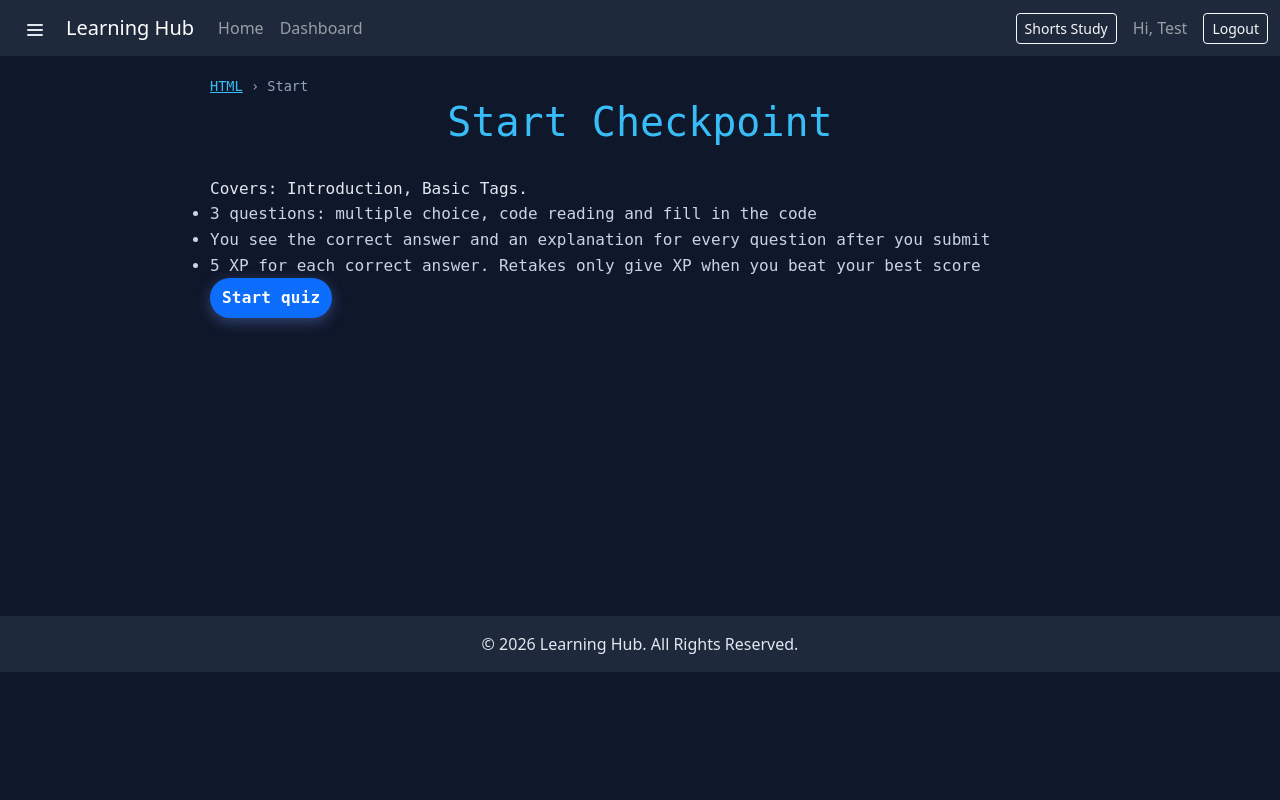
Test case: taking a quiz › a failed (non-passing) attempt encourages another try
The image size is (1280, 800).
What coordinates should you click on to do the following:
click the button "Start quiz"
I would click on:
 (271, 298)
Its box is [210,278,332,318].
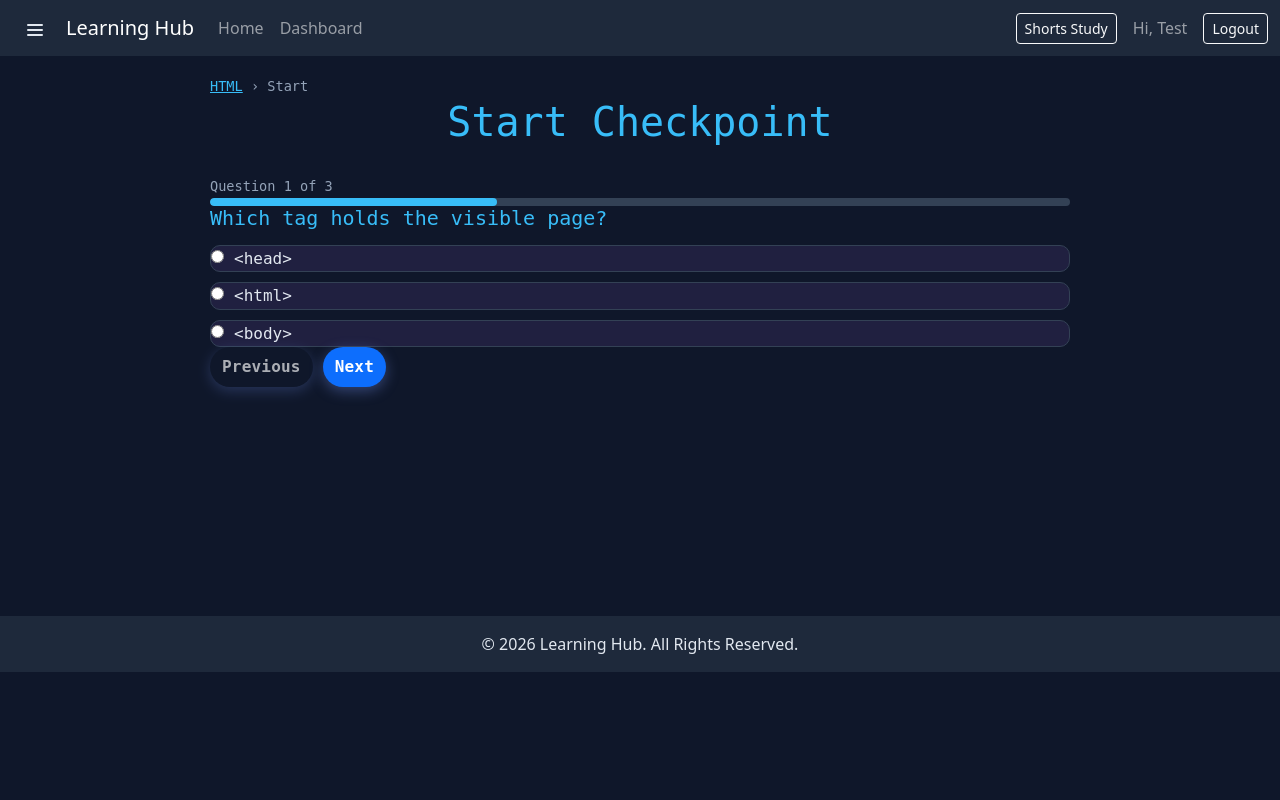
What coordinates should you click on to do the following:
click the button "Next"
I would click on:
 (354, 367)
Its box is [323,347,386,387].
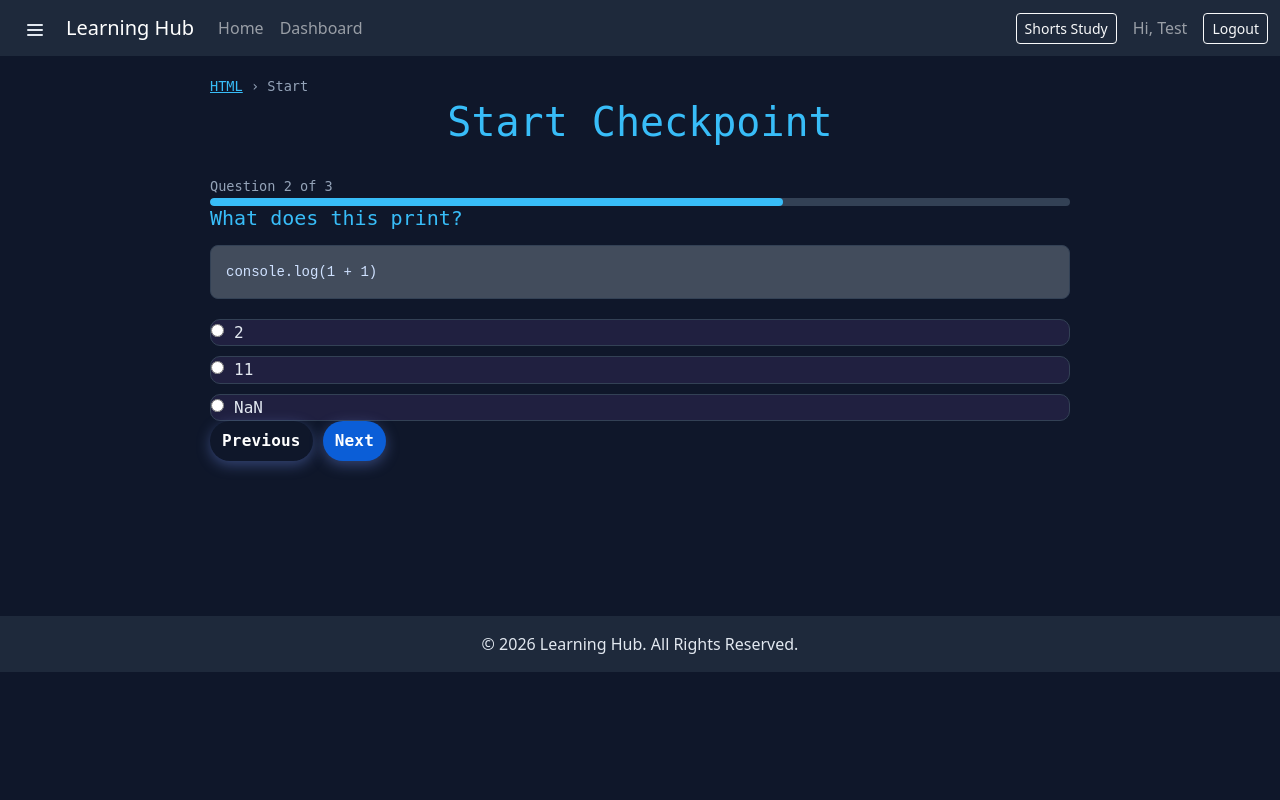
What coordinates should you click on to do the following:
click the button "Next"
I would click on:
 (354, 441)
Its box is [323,421,386,461].
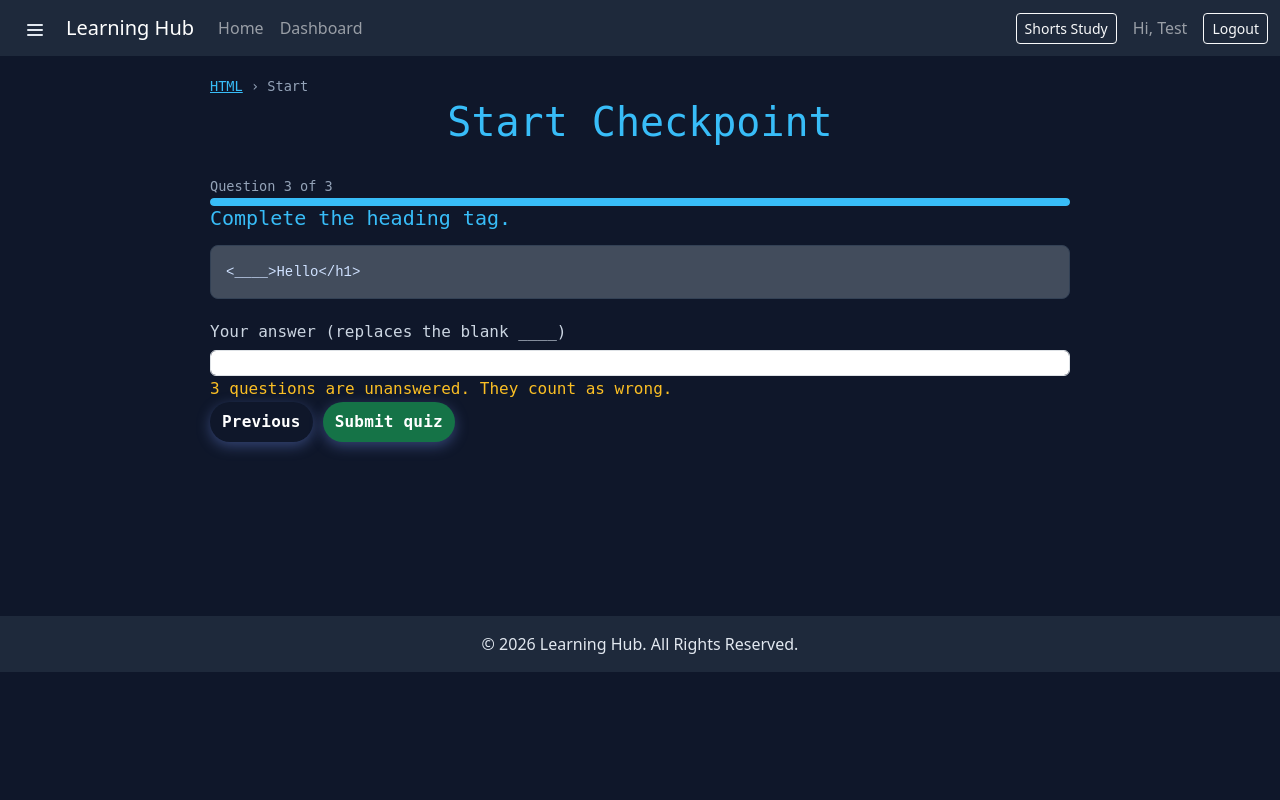
What coordinates should you click on to do the following:
click the button "Submit quiz"
I would click on:
 (389, 422)
Its box is [323,402,455,442].
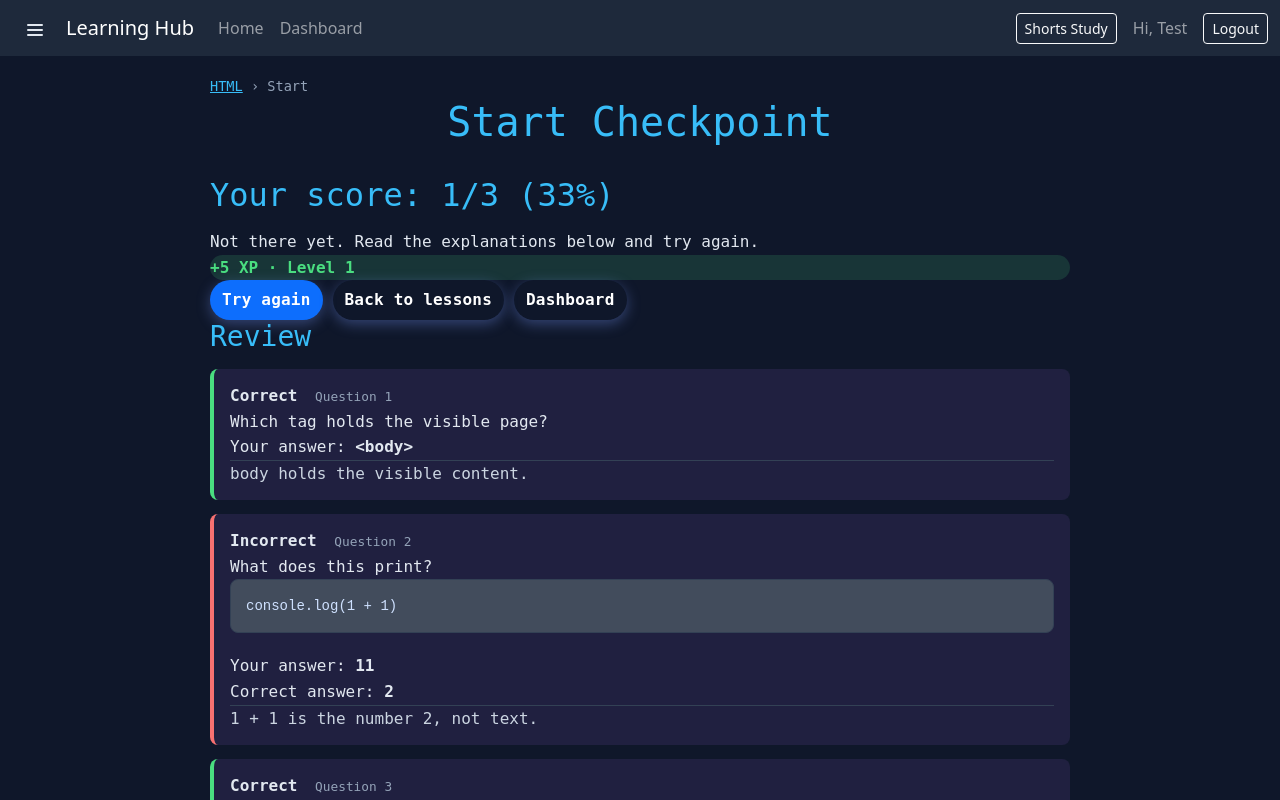
Expected: the text "Not there yet. Read the explanations below and try again." is shown, [210,232,759,251]
